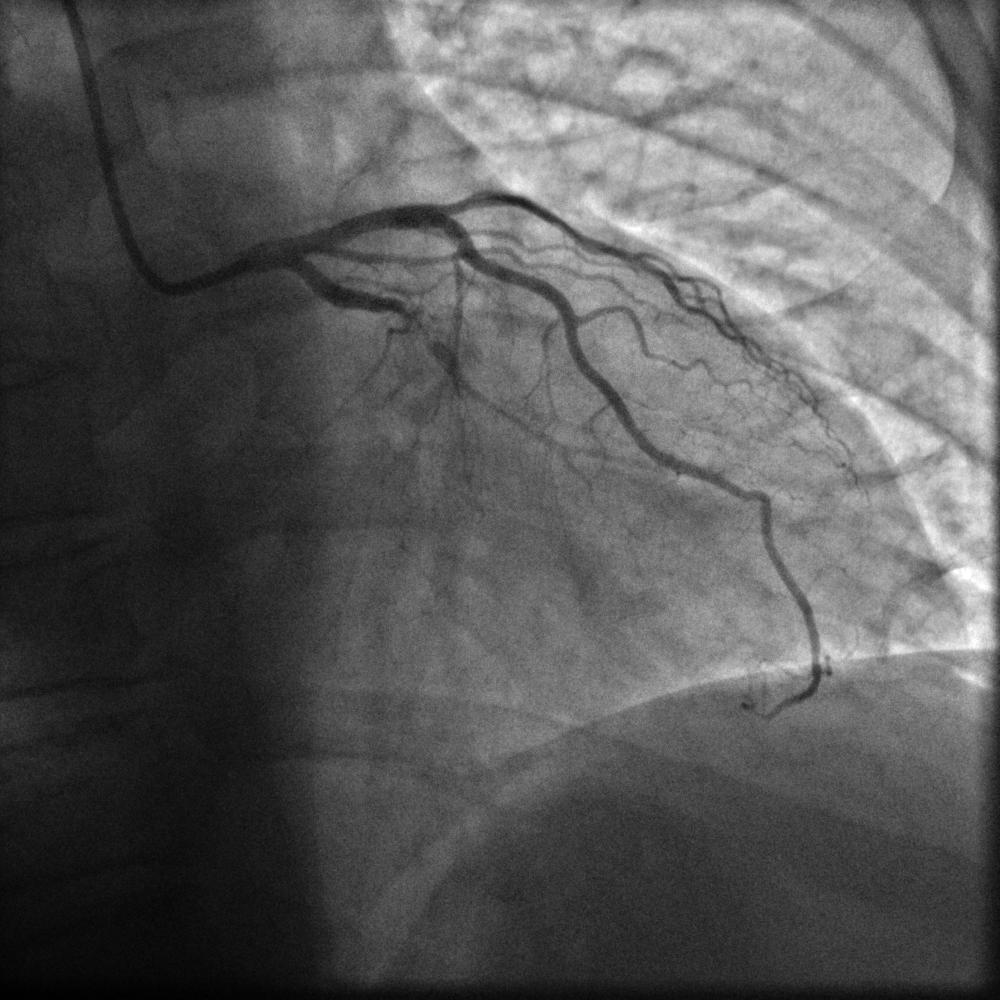Stenosis: (390, 296, 438, 356)
